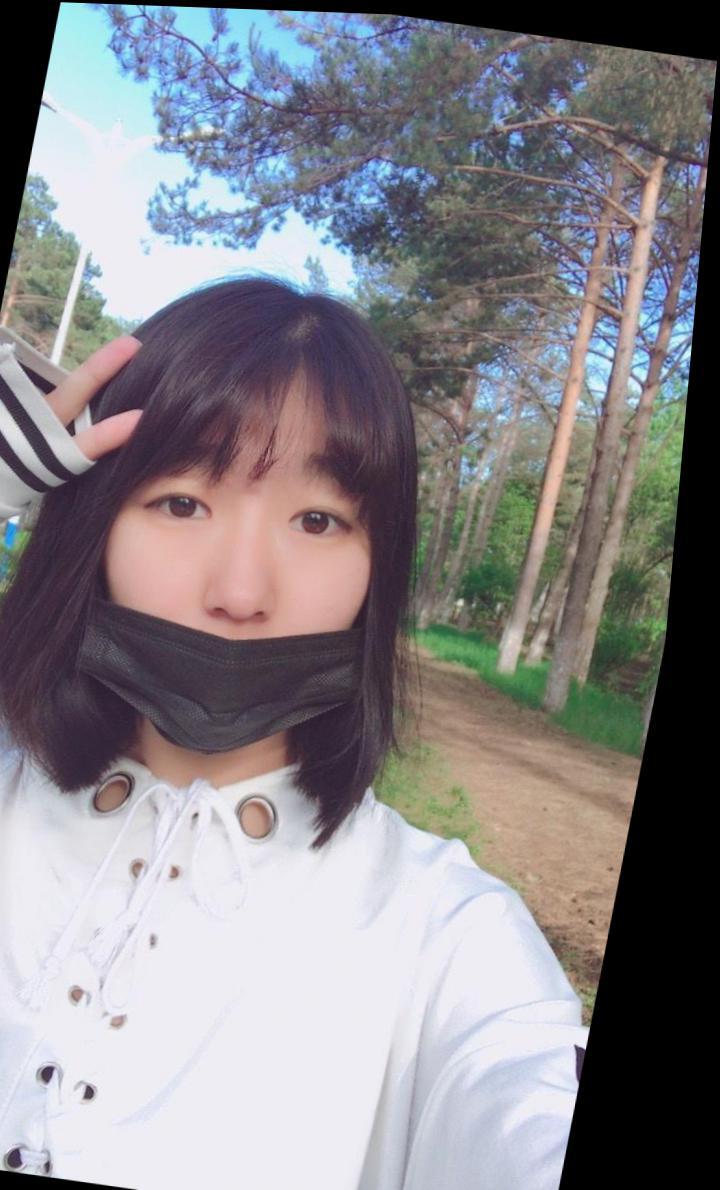WRONG: (80, 426, 420, 755)
